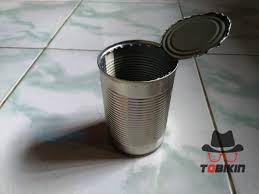metal: (94, 11, 231, 156)
